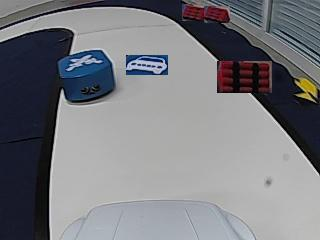spy: (66, 54, 102, 70)
